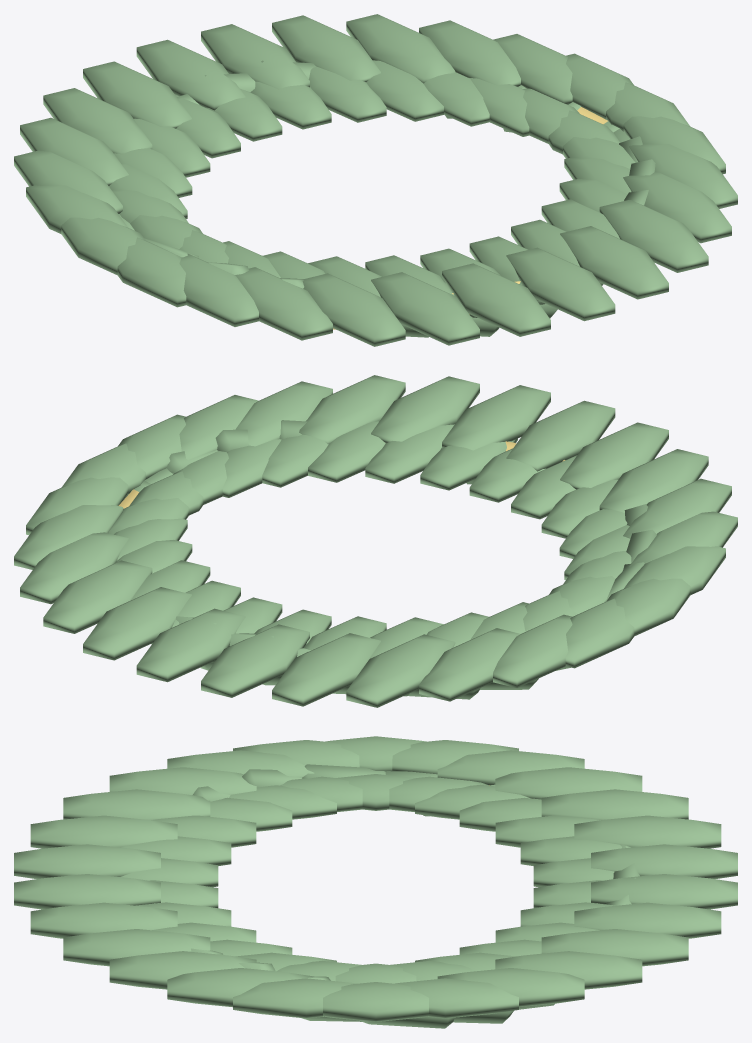
File: mythic-underworld-and-olympus-laurel-wreath-9ab42b63__21412.glb
The picture shows the model from 3 angles, top to bottom: view 1: azimuth 30°, elevation 25°; view 2: azimuth 150°, elevation 25°; view 3: azimuth 270°, elevation 25°; orthographic projection. The views are drawn at different scales.
Parts seen in each view (by area): view 1: laurel-wreath; view 2: laurel-wreath; view 3: laurel-wreath.
Part boxes in pixels (left/top/right/bottom): laurel-wreath: left=14, top=14, right=737, bottom=346; laurel-wreath: left=14, top=375, right=737, bottom=707; laurel-wreath: left=14, top=736, right=737, bottom=1028.
Size of the model in its own units: 0.5093 by 0.0535 by 0.568.
